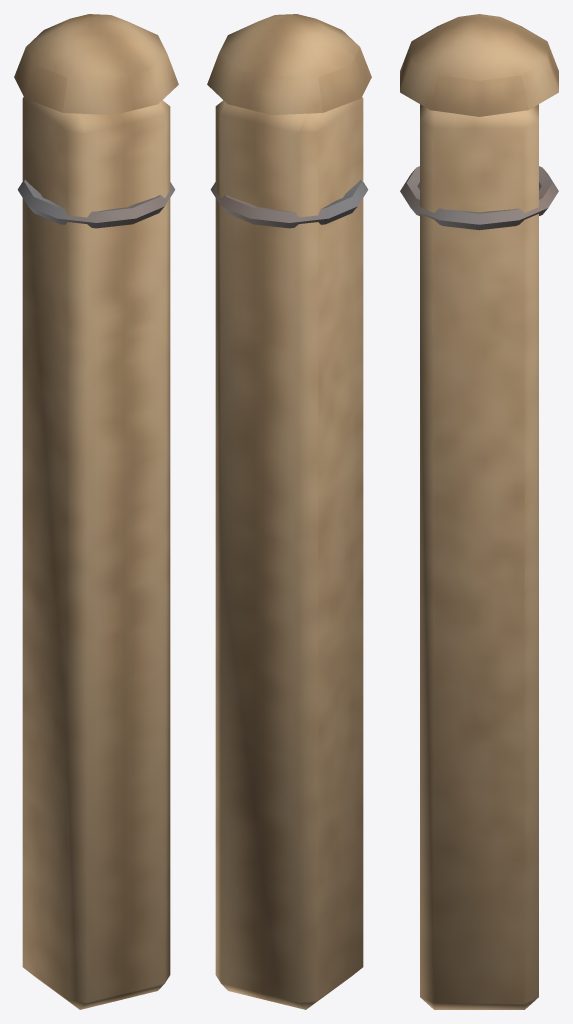
The model's file is fence_post.gltf.
3 views of the same model, side by side, from view 1: azimuth 30°, elevation 25°; view 2: azimuth 150°, elevation 25°; view 3: azimuth 270°, elevation 25° (orthographic).
Visible parts, largest first — view 1: fence_post; view 2: fence_post; view 3: fence_post.
Part boxes in pixels (x1,y1,x2,y2): fence_post: [14, 14, 178, 1009]; fence_post: [207, 14, 371, 1009]; fence_post: [400, 14, 558, 1009].
Size of the model in its own units: 0.21 by 1.35 by 0.2.
1 material, 1 textured.
